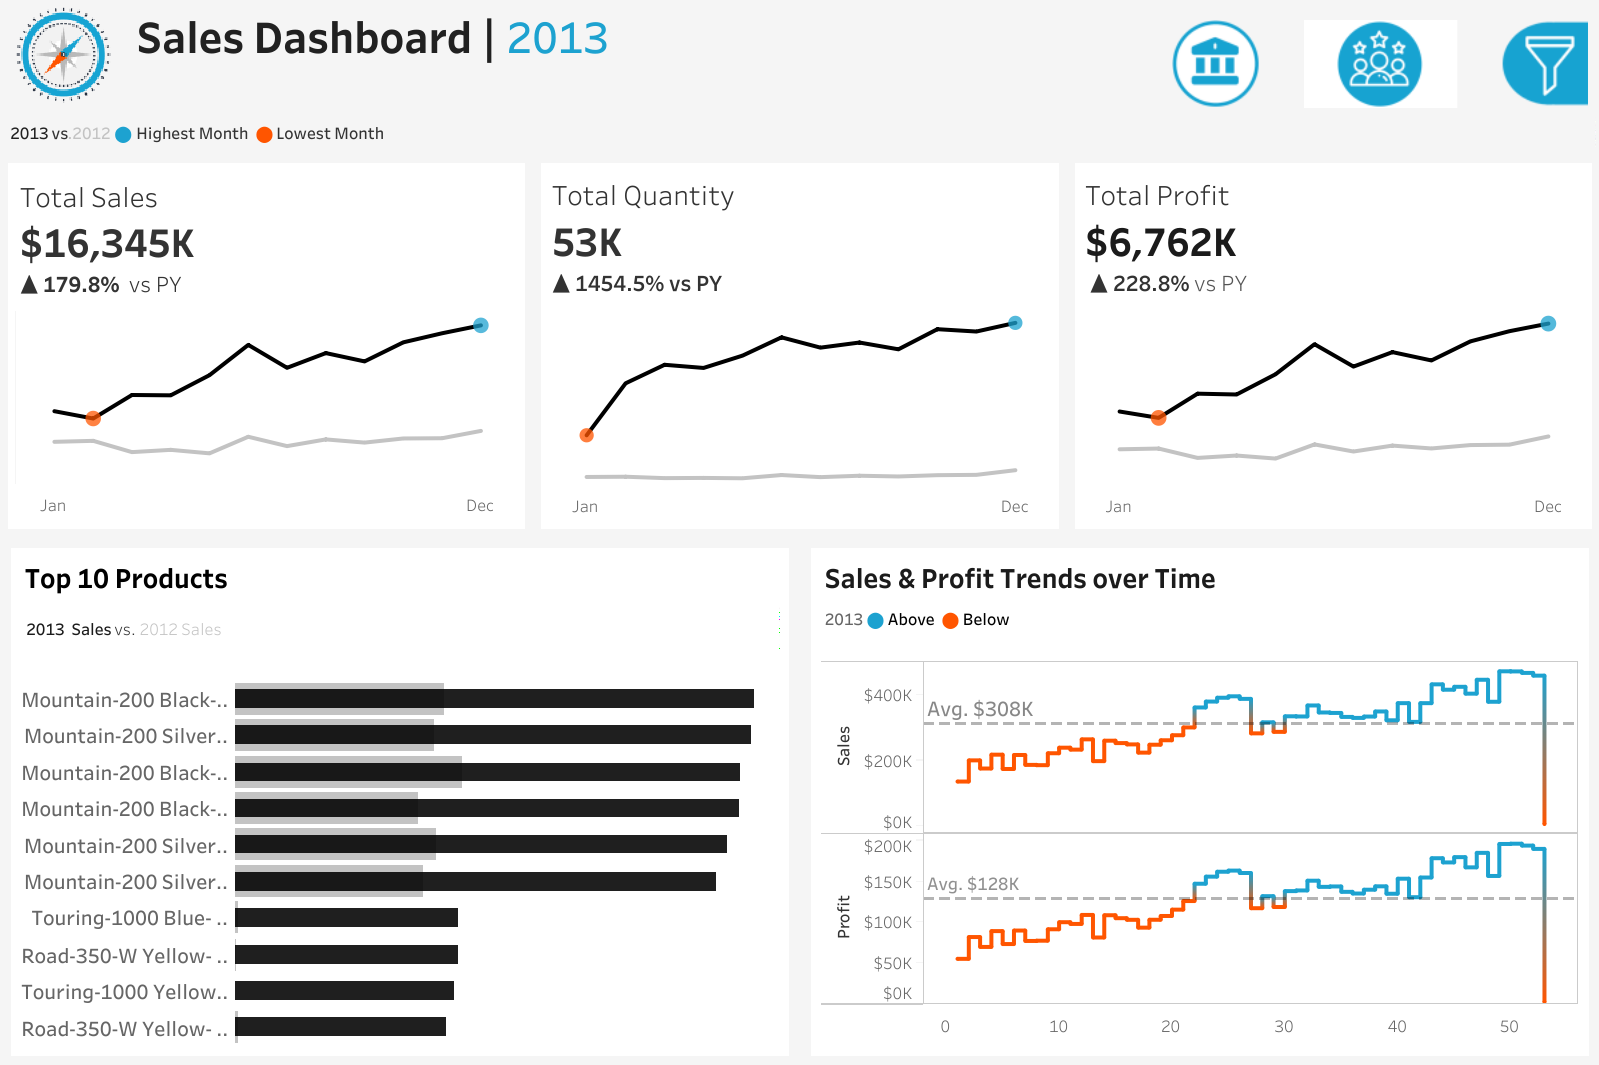

Layout of this report page (visuals, bound fields, positions):
{"tool":"tableau","page":{"name":"Sales  Dashboard","canvas":[1200,800],"ordinal":1},"visuals":[{"type":"image","param":"Image/Icon - Logo.png","box":[0,0,96,82]},{"type":"text","box":[96,0,1104,53]},{"type":"dashboard-object","box":[851,11,123,74]},{"type":"dashboard-object","box":[974,11,123,74]},{"type":"blank","box":[860,14,345,137]},{"type":"worksheet","title":"Legends 2","mark":"Automatic","box":[0,82,1200,34]},{"type":"worksheet","title":"KPI Sales","mark":"Automatic","rows":["Calculation_1359524169919401989"],"cols":["order_date"],"box":[0,116,400,287]},{"type":"worksheet","title":"KPI Quantity.","mark":"Automatic","rows":["Calculation_1359524169940340762"],"cols":["order_date"],"box":[400,116,400,287]},{"type":"worksheet","title":"KPI Profit","mark":"Line","rows":["Calculation_1359524169939804185"],"cols":["order_date"],"box":[800,116,400,287]},{"type":"text","box":[860,151,345,106]},{"type":"parameter","param":"[Parameters].[Parameter 1]","box":[860,257,345,55]},{"type":"text","box":[860,312,345,109]},{"type":"text","box":[12,415,576,35]},{"type":"text","box":[612,415,576,35]},{"type":"filter","title":"KPI Sales","param":"[federated.0c818gv0i62tdq19gkc2x0k0jdxb].[none:subcategory:nk]","box":[860,421,345,61]},{"type":"worksheet","title":"Legends","mark":"Automatic","box":[12,450,576,40]},{"type":"text","box":[612,450,576,25]},{"type":"worksheet","title":"Weekly Trends","mark":"Automatic","rows":["Calculation_1359524169884495873","Calculation_1359524169930113043"],"cols":["order_date"],"box":[612,475,576,313]},{"type":"filter","title":"KPI Sales","param":"[federated.0c818gv0i62tdq19gkc2x0k0jdxb].[none:category:nk]","box":[860,482,345,66]},{"type":"worksheet","title":"Top 10 Products","mark":"Bar","rows":["product_name"],"cols":["CY sales (copy)_1359524169885028354","Calculation_1359524169884495873"],"box":[12,490,576,298]},{"type":"text","box":[860,548,345,77]},{"type":"filter","title":"KPI Sales","param":"[federated.0c818gv0i62tdq19gkc2x0k0jdxb].[none:country:nk]","box":[860,625,345,52]}]}

Visuals, with their boxes in screenshot pixels (x1, y1, x2, y2), scaled from the page's 1200x800 canvas onto the 1599x1065 screenshot:
image: (0, 0, 128, 109)
text: (128, 0, 1598, 71)
dashboard-object: (1134, 15, 1298, 113)
dashboard-object: (1298, 15, 1462, 113)
blank: (1146, 19, 1598, 201)
"Legends 2" worksheet: (0, 109, 1598, 154)
"KPI Sales" worksheet: (0, 154, 533, 536)
"KPI Quantity." worksheet: (533, 154, 1066, 536)
"KPI Profit" worksheet (Line marks): (1066, 154, 1598, 536)
text: (1146, 201, 1598, 342)
parameter: (1146, 342, 1598, 415)
text: (1146, 415, 1598, 560)
text: (16, 552, 784, 599)
text: (815, 552, 1583, 599)
"KPI Sales" filter: (1146, 560, 1598, 642)
"Legends" worksheet: (16, 599, 784, 652)
text: (815, 599, 1583, 632)
"Weekly Trends" worksheet: (815, 632, 1583, 1049)
"KPI Sales" filter: (1146, 642, 1598, 730)
"Top 10 Products" worksheet (Bar marks): (16, 652, 784, 1049)
text: (1146, 730, 1598, 832)
"KPI Sales" filter: (1146, 832, 1598, 901)
